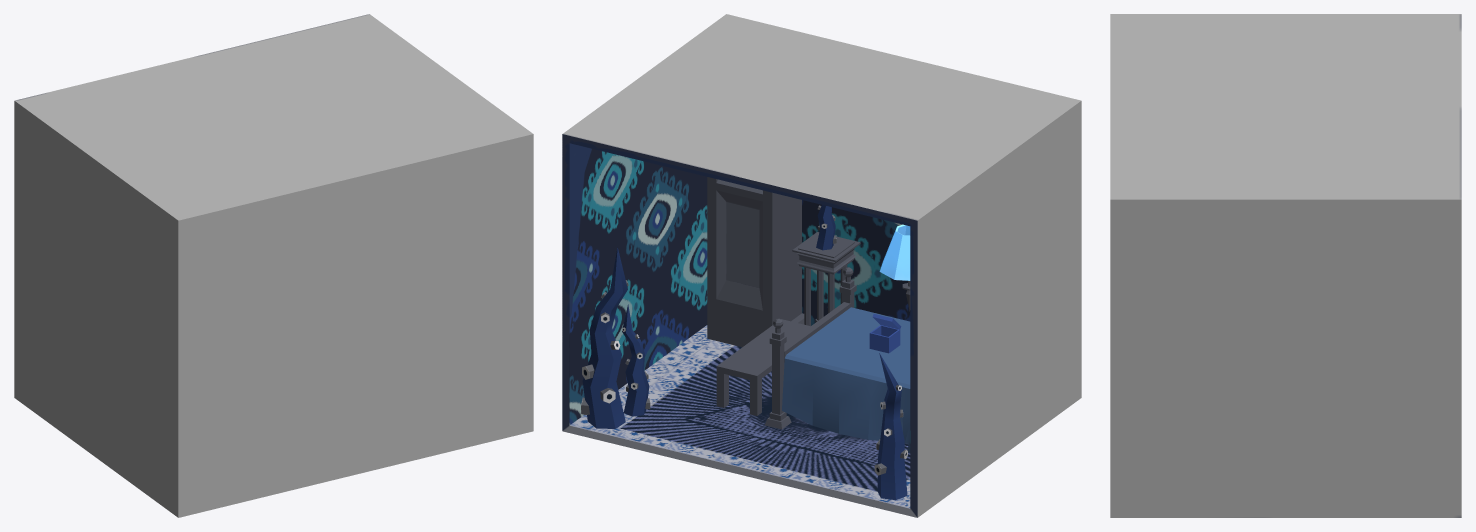
The model's file is SightRoom.fbx.
3 views of the same model, side by side, from view 1: azimuth 30°, elevation 25°; view 2: azimuth 150°, elevation 25°; view 3: azimuth 270°, elevation 25° (orthographic). The views are drawn at different scales.
Visible parts, largest first — view 1: SightWall; view 2: SightWall, SightBed, SightStandingclock, SIghtOrnament2, SIghtOrnament6, SightBench, SIghtOrnament5, SIghtOrnament3, SightWalllamp, SIghtBox, SIghtOrnament1; view 3: SightWall.
Part boxes in pixels (box(x1,y1,x2,y2)): SightWall: box(14, 14, 533, 517); SightWall: box(562, 14, 1081, 517); SightBed: box(765, 267, 910, 452); SightStandingclock: box(707, 177, 804, 347); SIghtOrnament2: box(581, 247, 628, 428); SIghtOrnament6: box(874, 353, 907, 500); SightBench: box(716, 319, 810, 415); SIghtOrnament5: box(792, 232, 860, 326); SIghtOrnament3: box(622, 304, 650, 416); SightWalllamp: box(879, 224, 910, 311); SIghtBox: box(869, 314, 901, 353); SIghtOrnament1: box(816, 205, 836, 250); SightWall: box(1110, 14, 1461, 517).
Bounding box in the file's own units: 500 × 400 × 400.
Materials: 4 (4 with a texture image).
